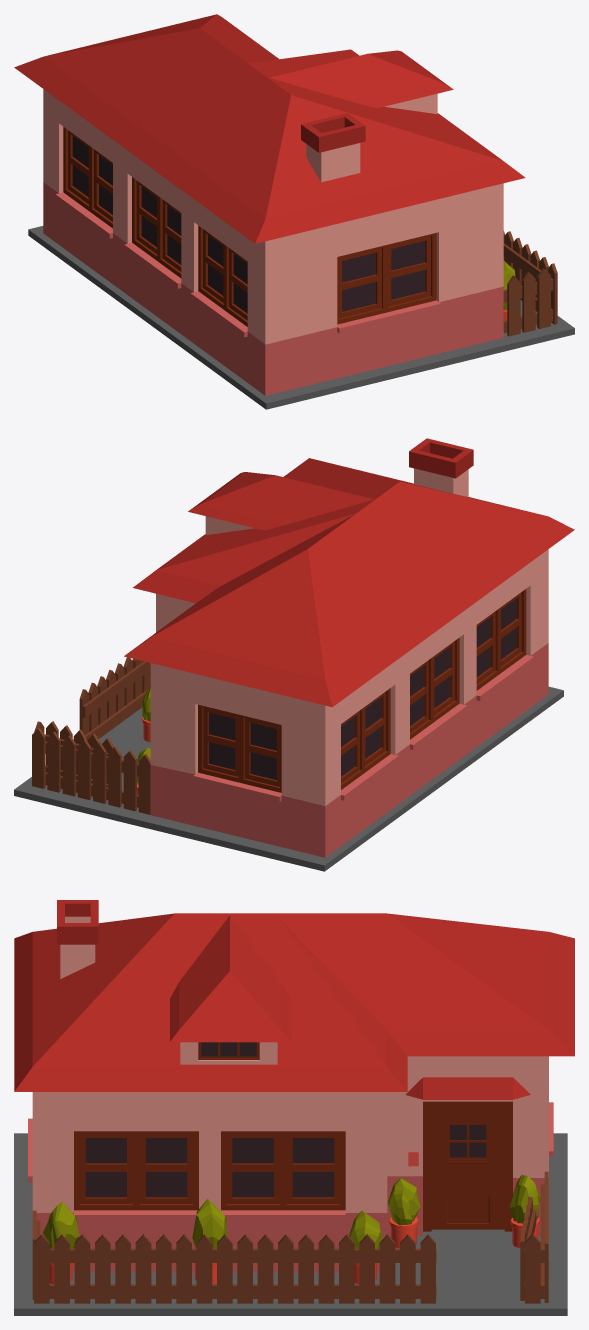
File: casa1 (1x1).fbx
3 renders of one model, top to bottom at view 1: azimuth 30°, elevation 25°; view 2: azimuth 150°, elevation 25°; view 3: azimuth 270°, elevation 25°, orthographic. The views are drawn at different scales.
Visible parts, largest first — view 1: PublicBuilding_5; view 2: PublicBuilding_5; view 3: PublicBuilding_5.
Part boxes in pixels (x1,y1,x2,y2): PublicBuilding_5: (14,14,574,409); PublicBuilding_5: (14,438,574,871); PublicBuilding_5: (14,900,574,1315).
Size of the model in its own units: 147 by 106 by 192.
